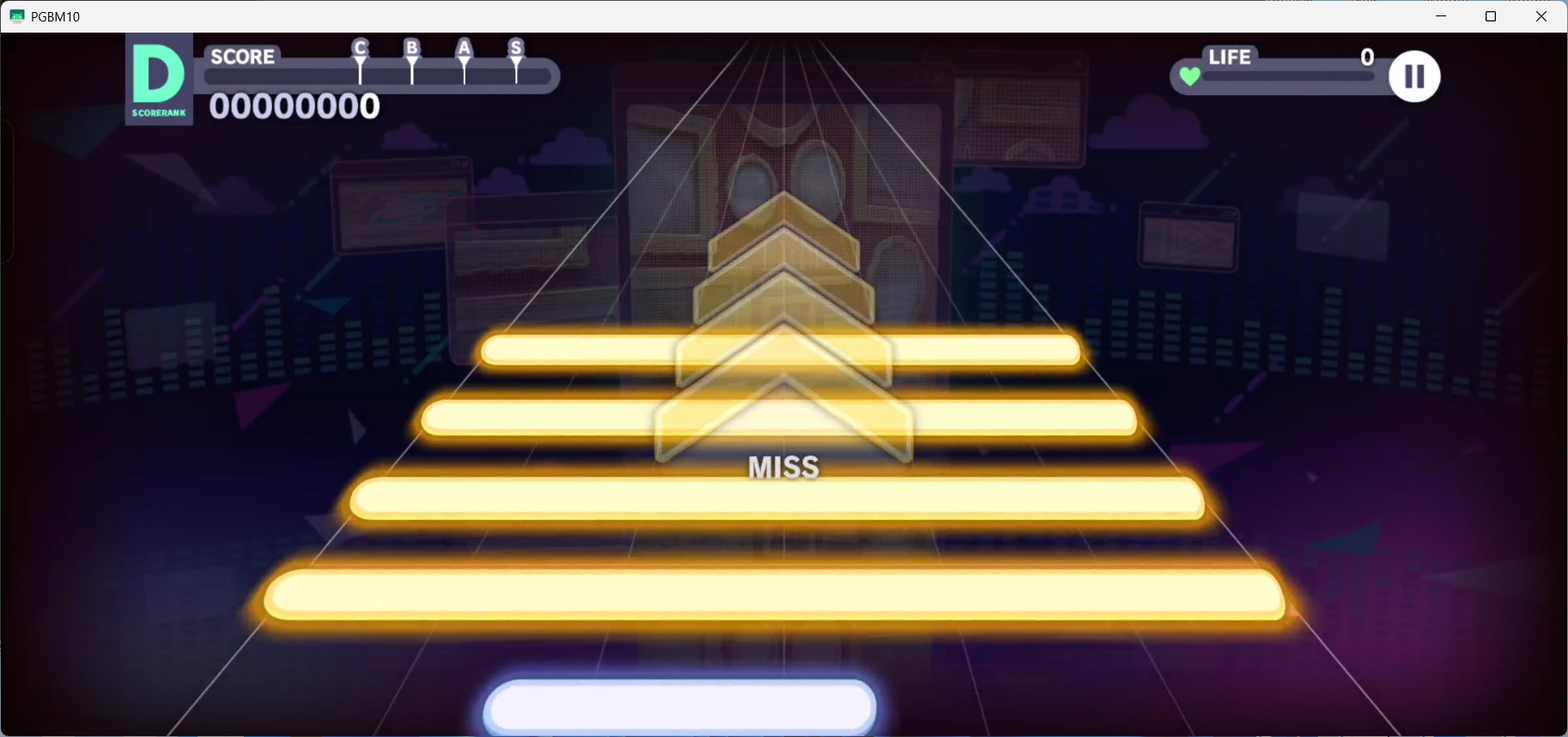flick: (655, 324, 914, 468), (675, 269, 893, 390), (692, 228, 875, 323), (707, 190, 859, 272)
tap: (264, 569, 1289, 619), (349, 476, 1207, 521), (421, 397, 1139, 438), (480, 680, 876, 737), (482, 333, 1080, 365)
